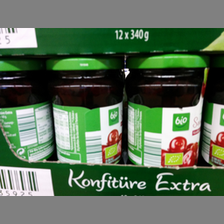jam: (125, 53, 209, 167), (46, 56, 125, 163), (1, 59, 54, 161)
